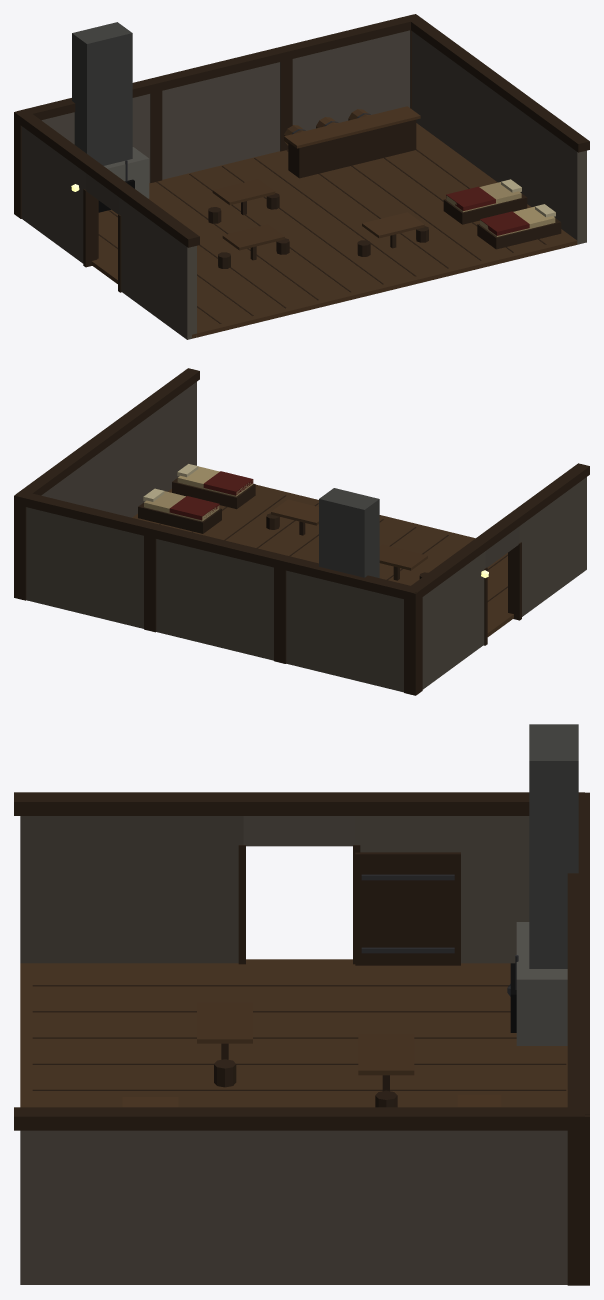
File: inn_shell.glb
3 views of the same model, one above another, from view 1: azimuth 30°, elevation 25°; view 2: azimuth 150°, elevation 25°; view 3: azimuth 270°, elevation 25° (orthographic). The views are drawn at different scales.
Visible parts, largest first — view 1: InnShell; view 2: InnShell; view 3: InnShell.
Boxes of the visible parts, x1,y1,x2,y2 form: InnShell: [14, 14, 589, 339]; InnShell: [14, 368, 589, 695]; InnShell: [14, 724, 589, 1285].
Size of the model in its own units: 12.59 by 5.02 by 9.28.
